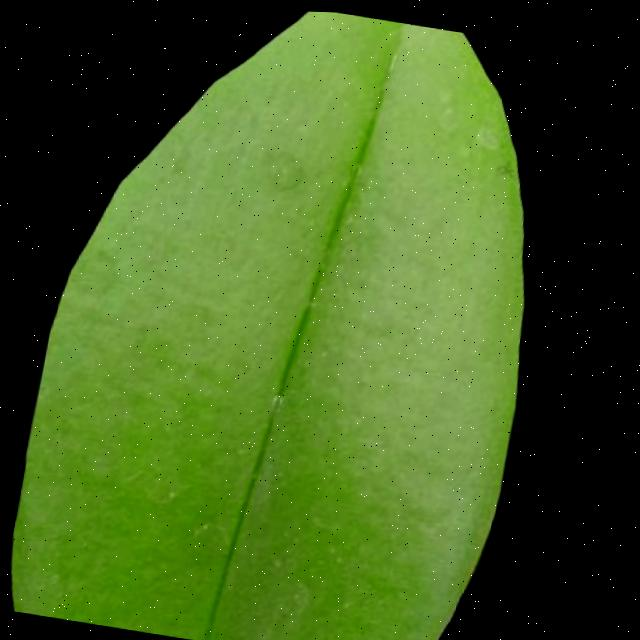mite: (267, 157, 312, 197), (466, 119, 509, 157), (292, 578, 322, 614), (493, 156, 523, 178)
spots: (2, 3, 587, 640)
